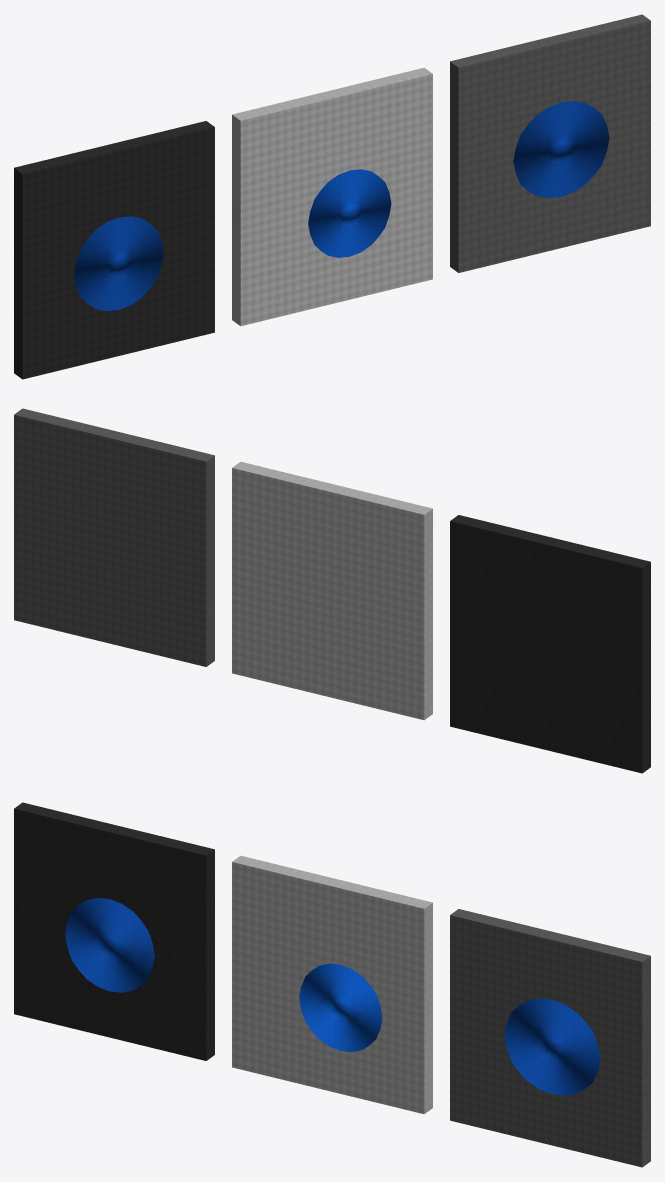
The picture shows the model from 3 angles, top to bottom: view 1: azimuth 30°, elevation 25°; view 2: azimuth 150°, elevation 25°; view 3: azimuth 330°, elevation 25°; orthographic projection.
Parts seen in each view (by area): view 1: 3 center_canvas_panel, 1 left_canvas_panel, 5 right_canvas_panel, 6 right_blue_rose, 2 left_blue_rose, 4 center_blue_rose; view 2: 3 center_canvas_panel, 1 left_canvas_panel, 5 right_canvas_panel; view 3: 3 center_canvas_panel, 1 left_canvas_panel, 5 right_canvas_panel, 6 right_blue_rose, 2 left_blue_rose, 4 center_blue_rose.
Boxes of the visible parts, <box> form: 3 center_canvas_panel: <box>232,67,432,326</box>; 1 left_canvas_panel: <box>14,121,214,379</box>; 5 right_canvas_panel: <box>450,14,650,272</box>; 6 right_blue_rose: <box>513,101,609,198</box>; 2 left_blue_rose: <box>74,216,163,311</box>; 4 center_blue_rose: <box>308,169,391,257</box>; 3 center_canvas_panel: <box>232,461,432,720</box>; 1 left_canvas_panel: <box>450,515,650,773</box>; 5 right_canvas_panel: <box>14,408,214,666</box>; 3 center_canvas_panel: <box>232,855,432,1114</box>; 1 left_canvas_panel: <box>14,802,214,1060</box>; 5 right_canvas_panel: <box>450,909,650,1167</box>; 6 right_blue_rose: <box>504,998,600,1095</box>; 2 left_blue_rose: <box>65,898,154,992</box>; 4 center_blue_rose: <box>299,963,382,1051</box>.
Size of the model in its own units: 3.2 by 1 by 0.08.
Materials: 5 (5 with a texture image).
